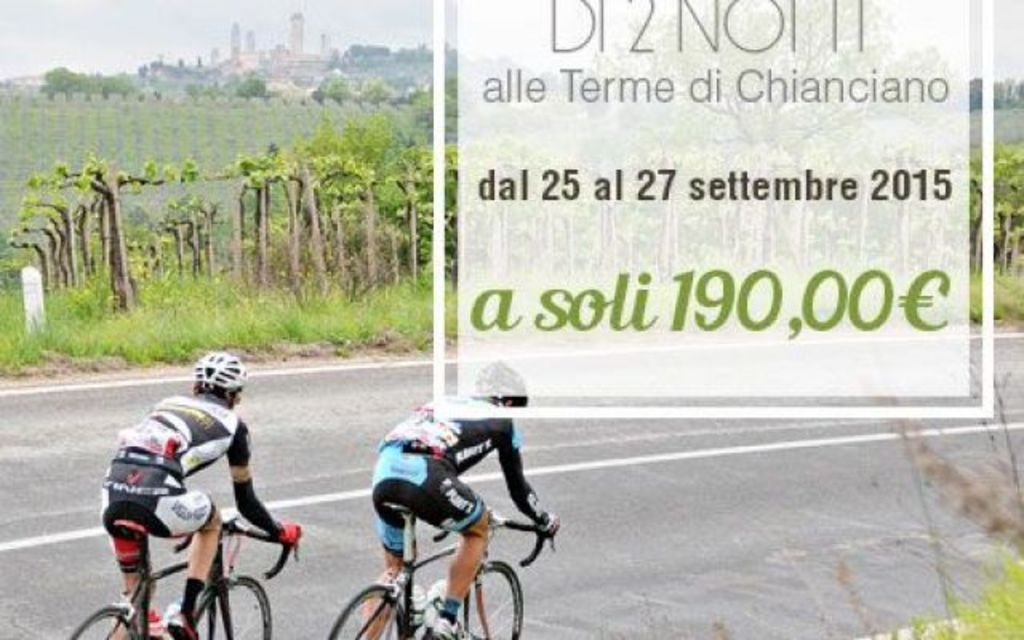Bike: (66, 501, 297, 638), (333, 500, 549, 636)
